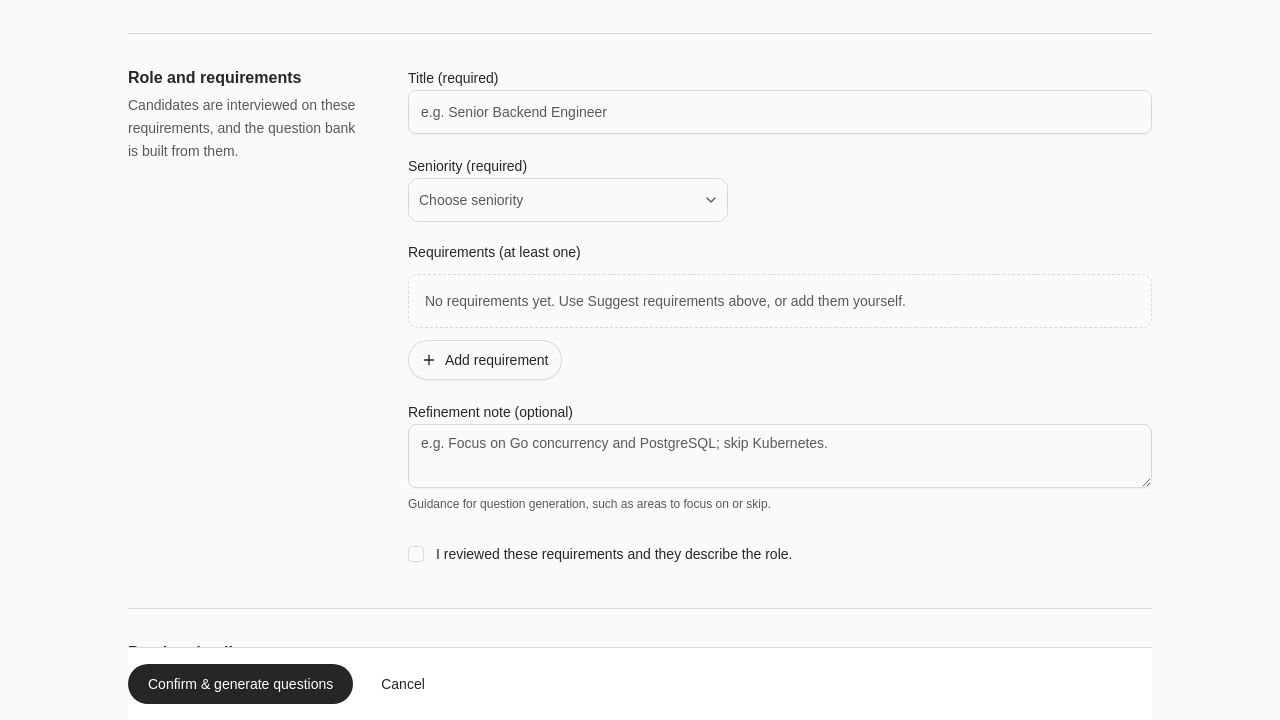
Test: NewJobPosting › adds and removes requirements by hand
The image size is (1280, 720).
(page scrolled)
Click the button "Add requirement": (485, 360) [408,340,562,380]
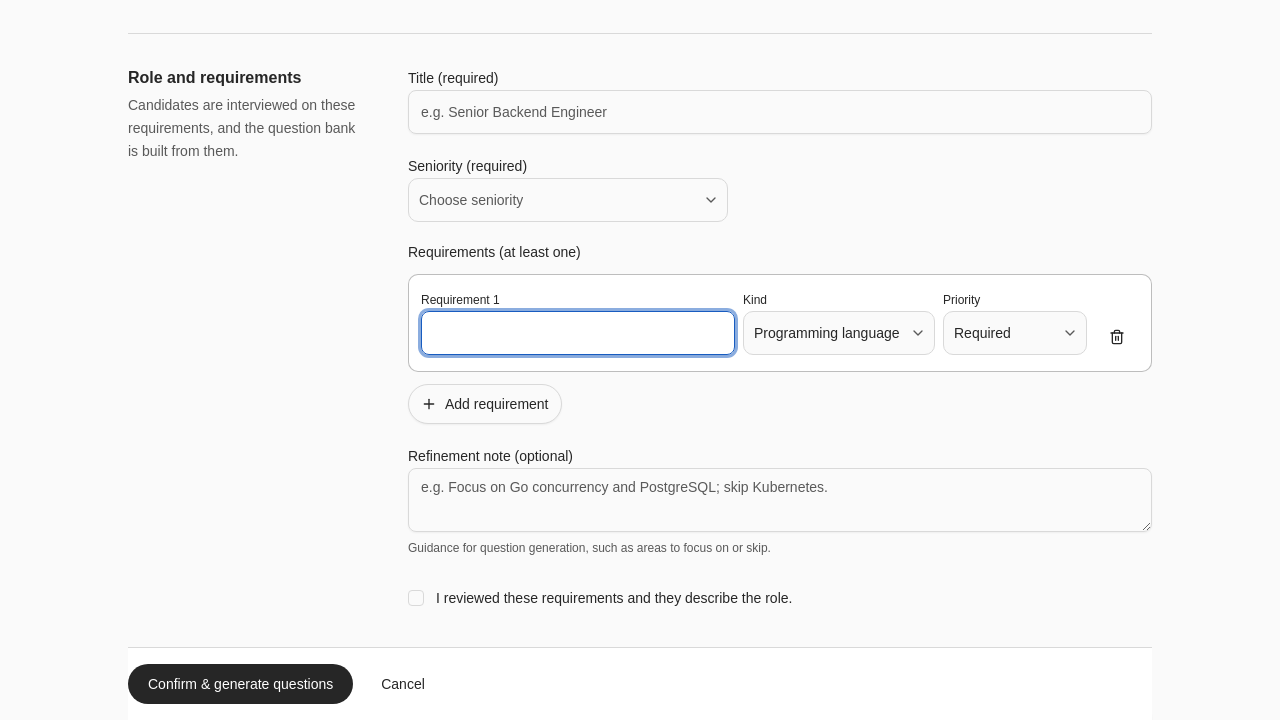
In the field labelled "Requirement 1": (578, 333) [421,311,735,355], type "Kafka"
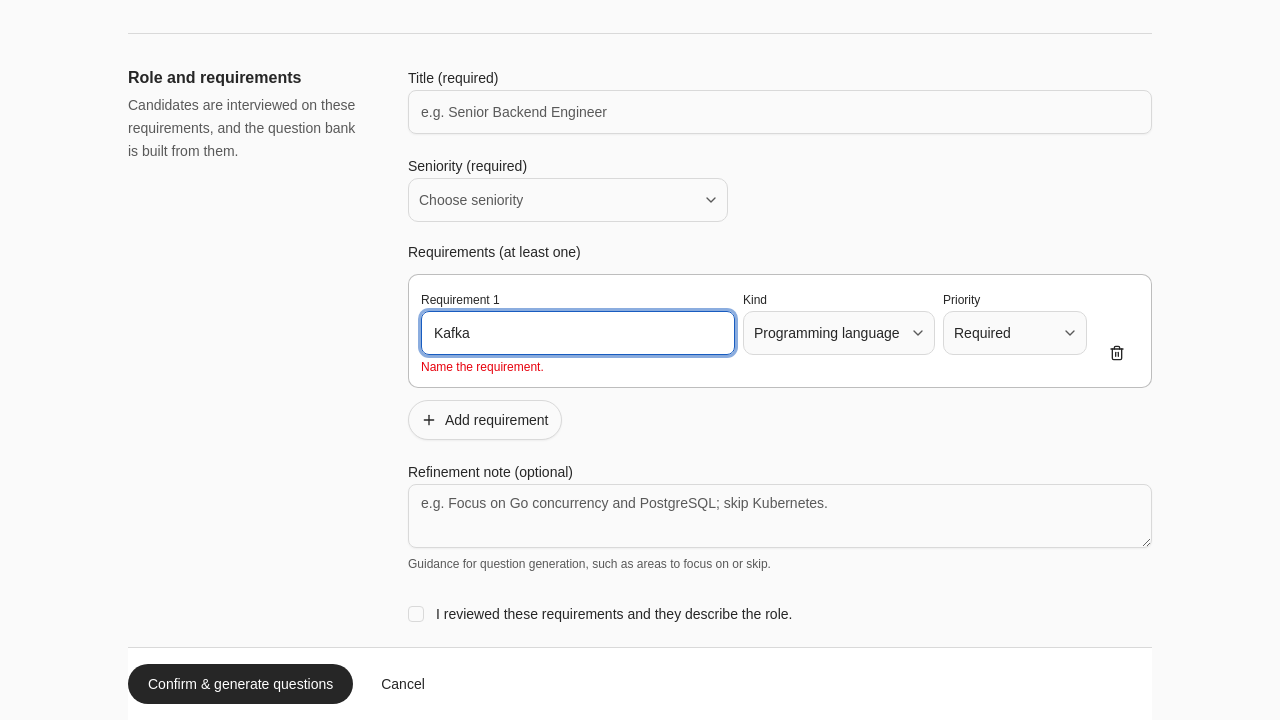
Click the button named "Remove Kafka": (1117, 353) [1095,331,1139,375]
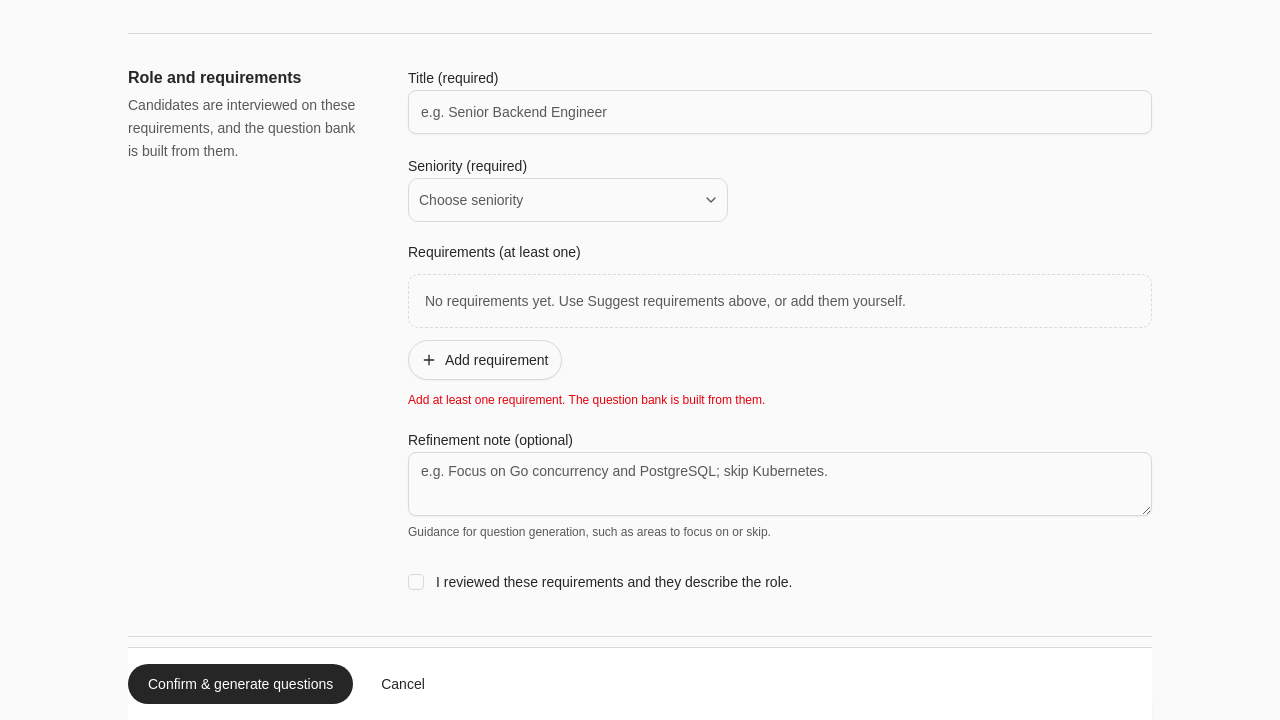
Now the label labelled "Requirement 1" is gone
